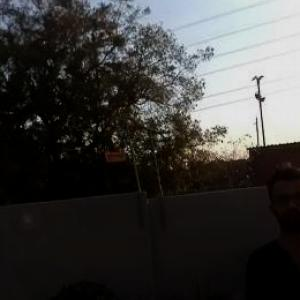follow: (241, 156, 300, 299)
